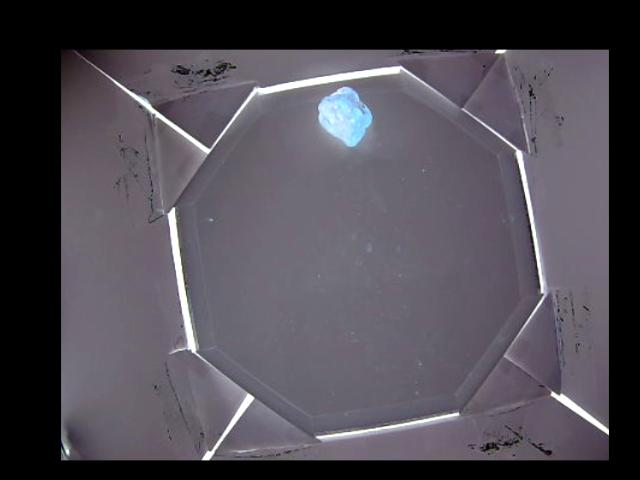Brisk: (318, 86, 371, 146)
